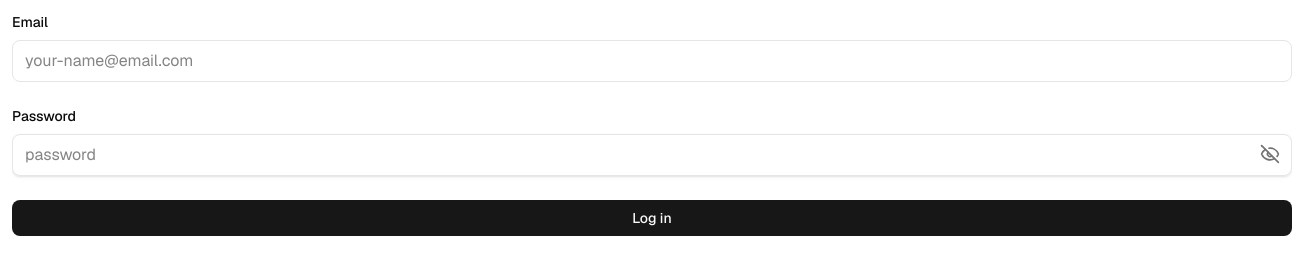
LoginForm › should show loading state during submission
The width and height of the screenshot is (1304, 253).
Type "test@example.com" into the field labelled "Email" at (652,61), box [12,40,1292,82]
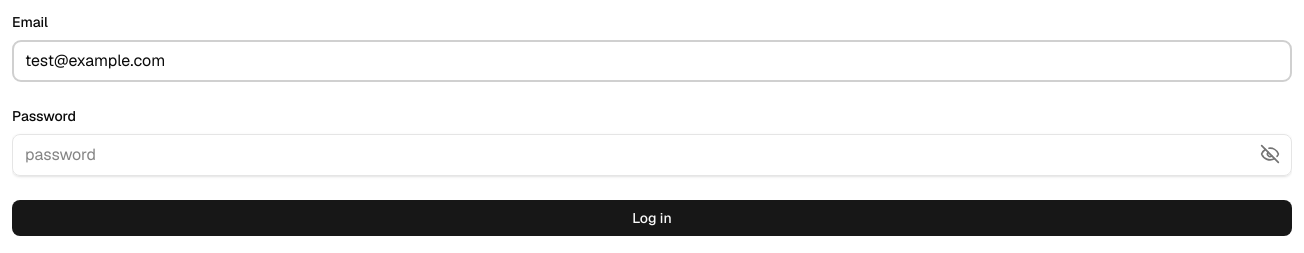
Type "password123" into the password field labelled "Password" at (652,155), box [12,134,1292,176]
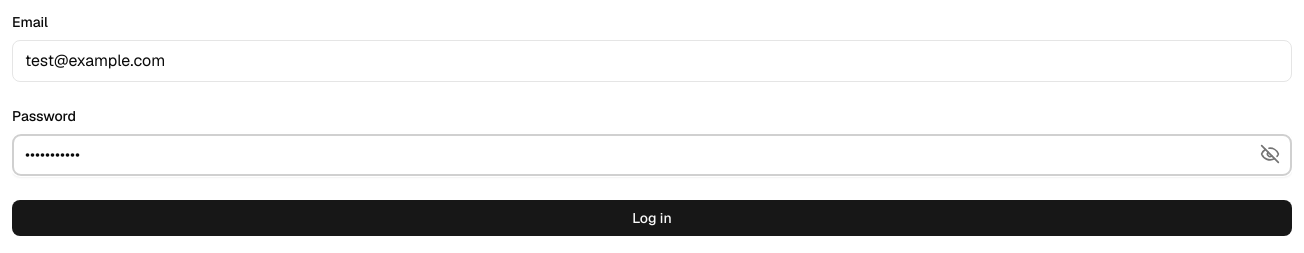
Click the button "Log in" at (652,218), box [12,200,1292,236]
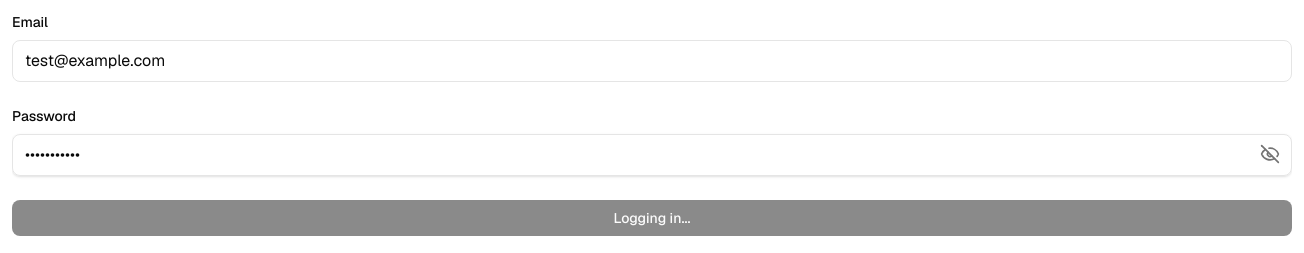
Now the button "Logging in..." is disabled, box [12,200,1292,236]
